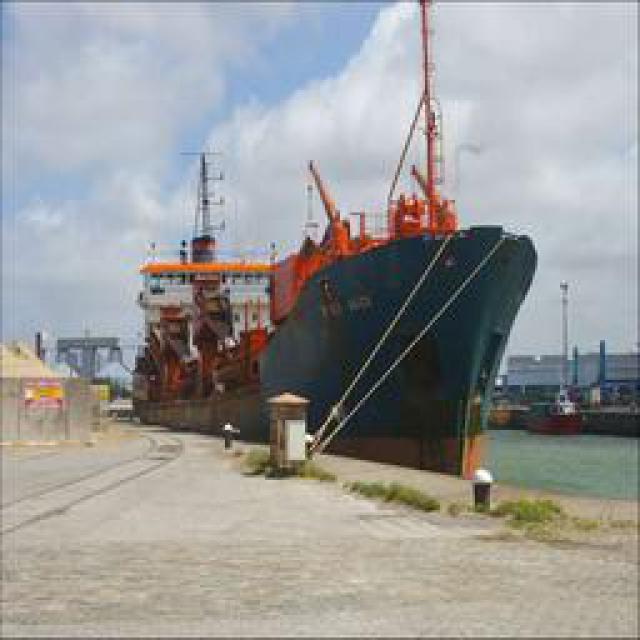Ship: (97, 5, 546, 486)
